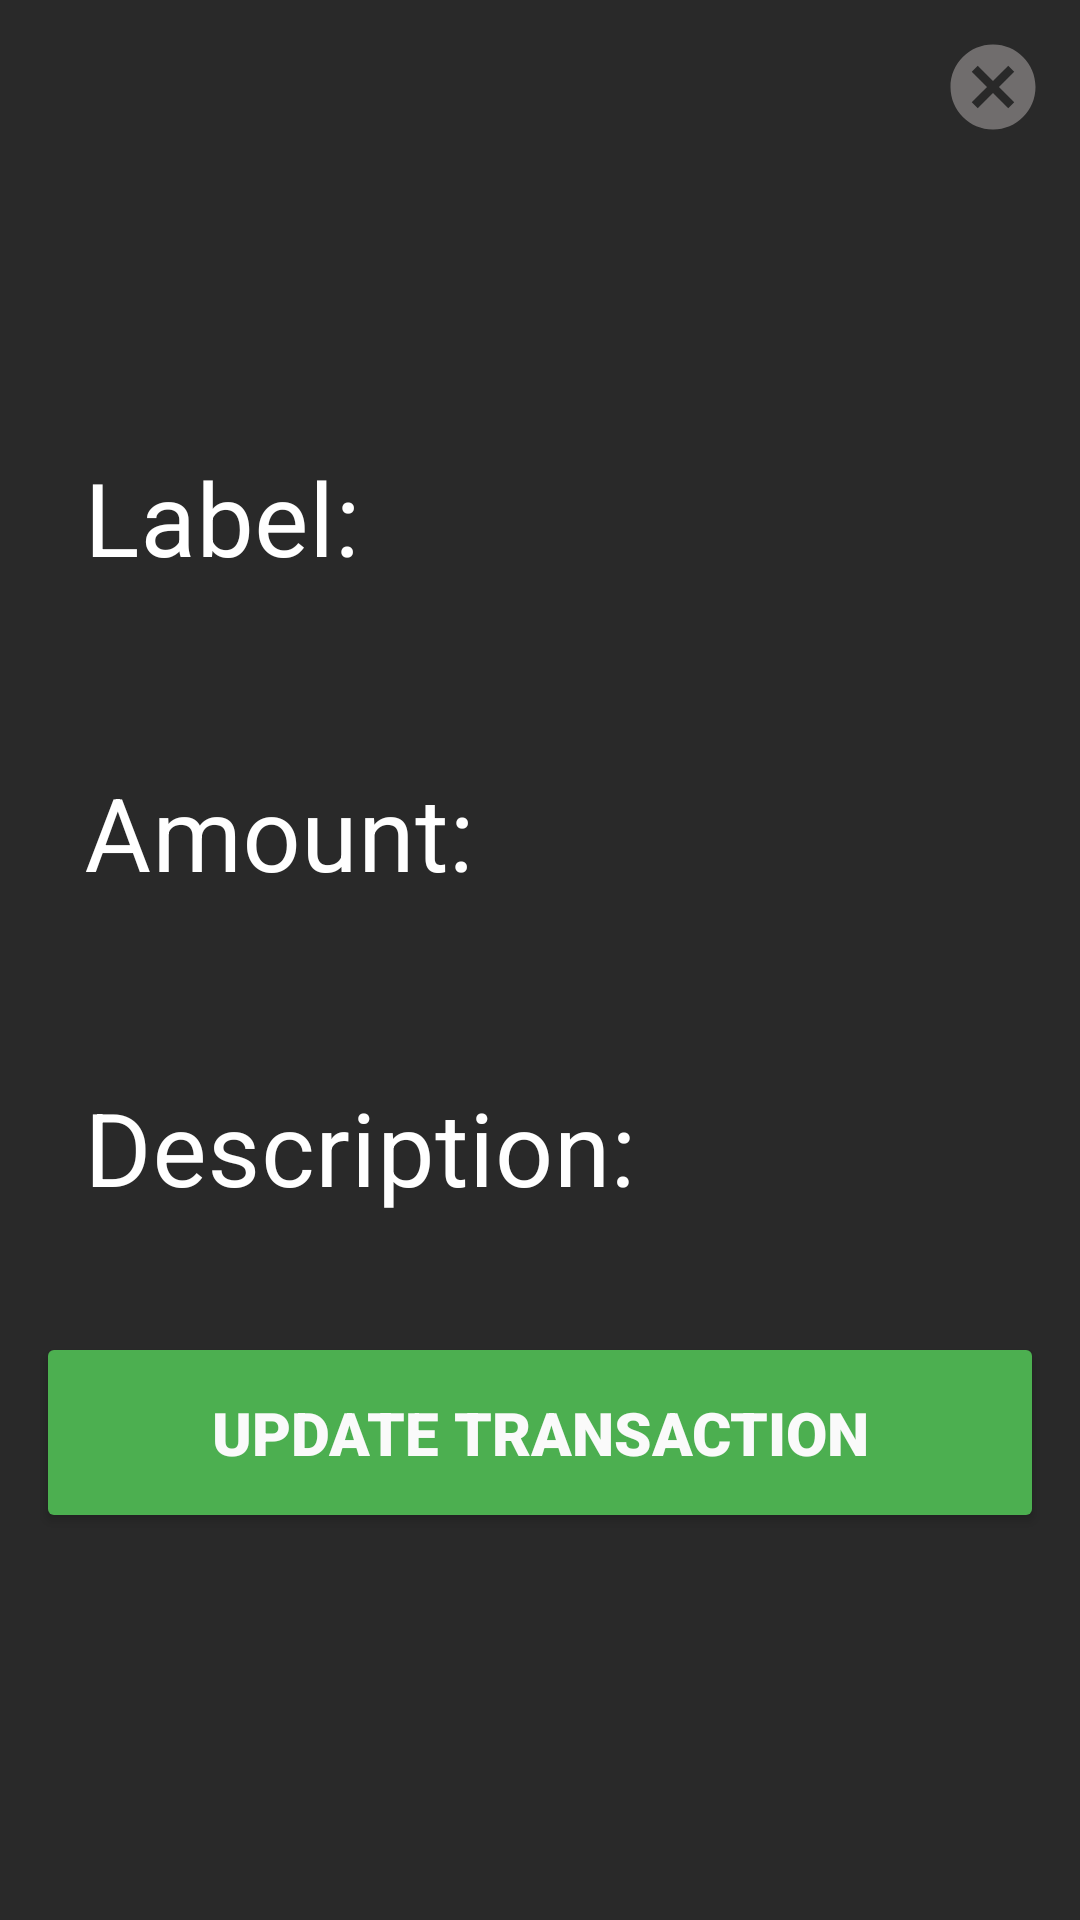

Locate icon controls on the screen. Image size 1080px x 1920px, boxes as (x1, y1, x2, y2).
cancel: (950, 44, 1036, 130)
